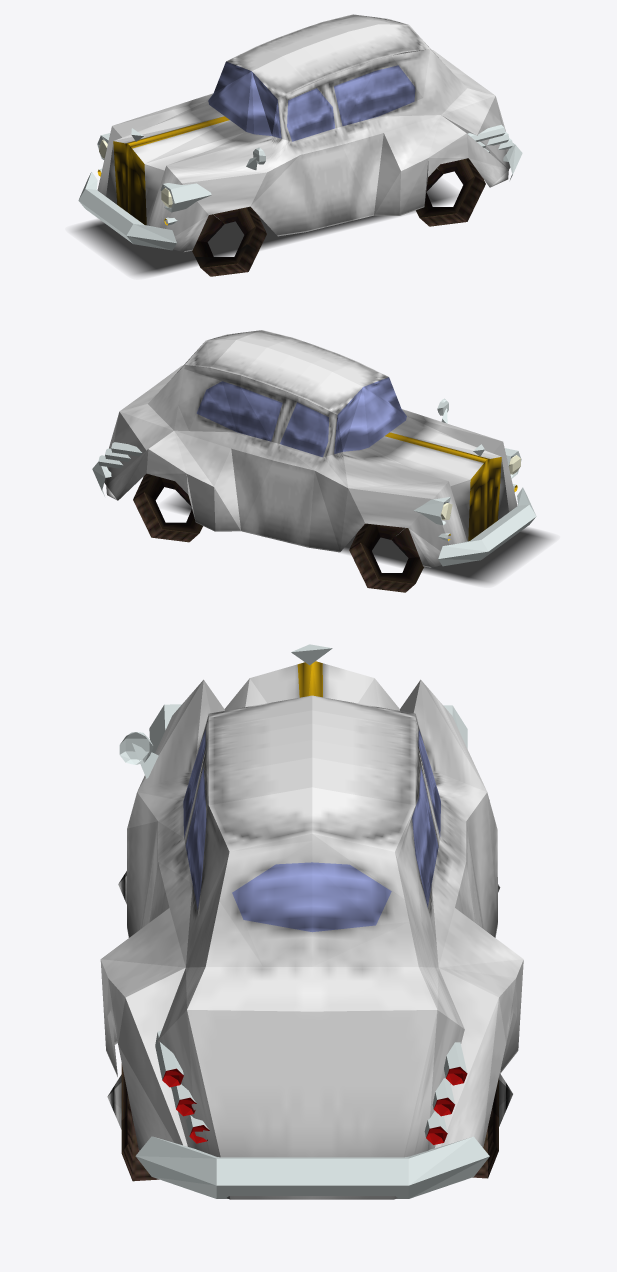
File: Normauto_1_new_2776.glb
3 views of the same model, one above another, from view 1: azimuth 30°, elevation 25°; view 2: azimuth 150°, elevation 25°; view 3: azimuth 270°, elevation 25° (orthographic). The views are drawn at different scales.
Parts seen in each view (by area): view 1: polySurfaceShape9, polySurfaceShape12, pPlaneShape7, vrlShape, pCylinderShape3, hrlShape, pConeShape1, polySurfaceShape10; view 2: polySurfaceShape9, polySurfaceShape11, pPlaneShape7, vrrShape, pCylinderShape3, hrrShape, pConeShape2, polySurfaceShape10; view 3: polySurfaceShape9, polySurfaceShape10, pCylinderShape4, polySurfaceShape11, polySurfaceShape12, hrlShape, hrrShape, pConeShape11.
Boxes of the visible parts, x1=… form: polySurfaceShape9: x1=97, y1=14, x2=510, y2=251; polySurfaceShape12: x1=278, y1=76, x2=347, y2=231; pPlaneShape7: x1=73, y1=180, x2=457, y2=276; vrlShape: x1=192, y1=206, x2=266, y2=276; pCylinderShape3: x1=78, y1=172, x2=176, y2=250; hrlShape: x1=416, y1=158, x2=485, y2=226; pConeShape1: x1=160, y1=183, x2=211, y2=212; polySurfaceShape10: x1=432, y1=50, x2=494, y2=95; polySurfaceShape9: x1=104, y1=330, x2=517, y2=567; polySurfaceShape11: x1=267, y1=391, x2=337, y2=547; pPlaneShape7: x1=165, y1=494, x2=552, y2=584; vrrShape: x1=349, y1=523, x2=423, y2=592; pCylinderShape3: x1=438, y1=487, x2=536, y2=566; hrrShape: x1=133, y1=473, x2=202, y2=542; pConeShape2: x1=413, y1=497, x2=450, y2=525; polySurfaceShape10: x1=120, y1=365, x2=182, y2=410; polySurfaceShape9: x1=100, y1=661, x2=523, y2=1199; polySurfaceShape10: x1=187, y1=967, x2=437, y2=1199; pCylinderShape4: x1=135, y1=1136, x2=489, y2=1198; polySurfaceShape11: x1=415, y1=714, x2=484, y2=929; polySurfaceShape12: x1=140, y1=715, x2=208, y2=929; hrlShape: x1=107, y1=1063, x2=159, y2=1181; hrrShape: x1=472, y1=1073, x2=512, y2=1178; pConeShape11: x1=155, y1=1030, x2=183, y2=1087.
Bounding box in the file's own units: 0.7111 × 0.2585 × 0.3333.
Materials: 38 (13 with a texture image).
